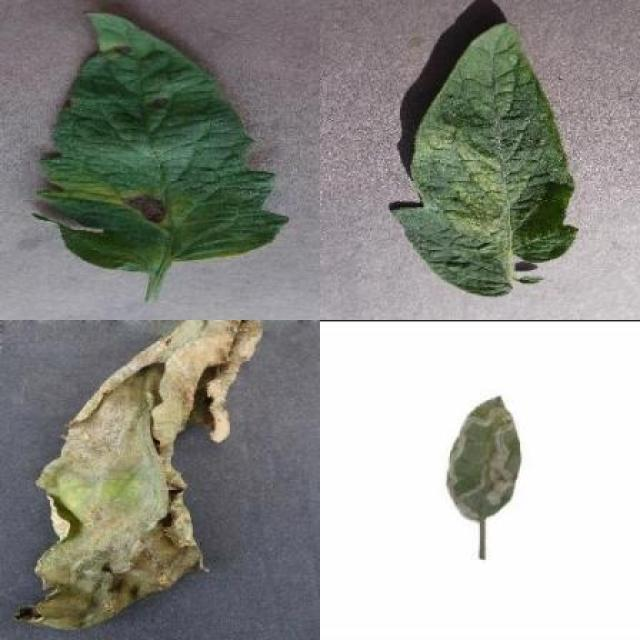Early Blight: (36, 8, 290, 272)
Late Blight: (17, 320, 263, 629)
Leaf Miner: (448, 394, 522, 522)
Spider Mites: (389, 23, 581, 297)
